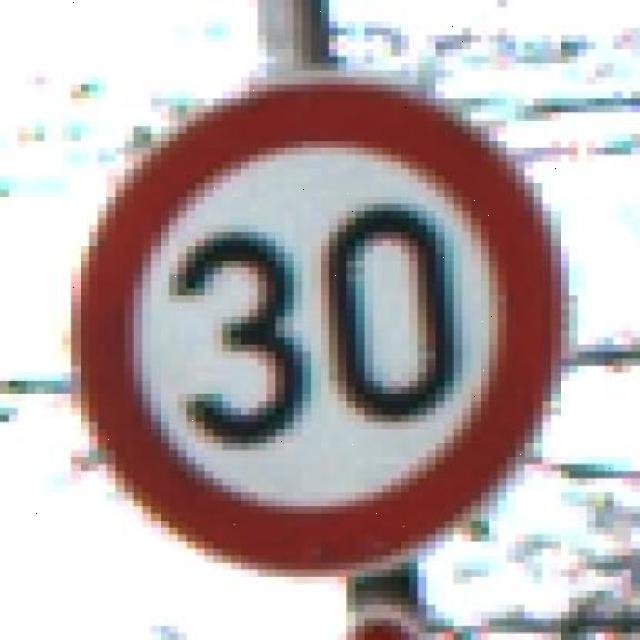speed limit 30: (72, 74, 567, 579)
